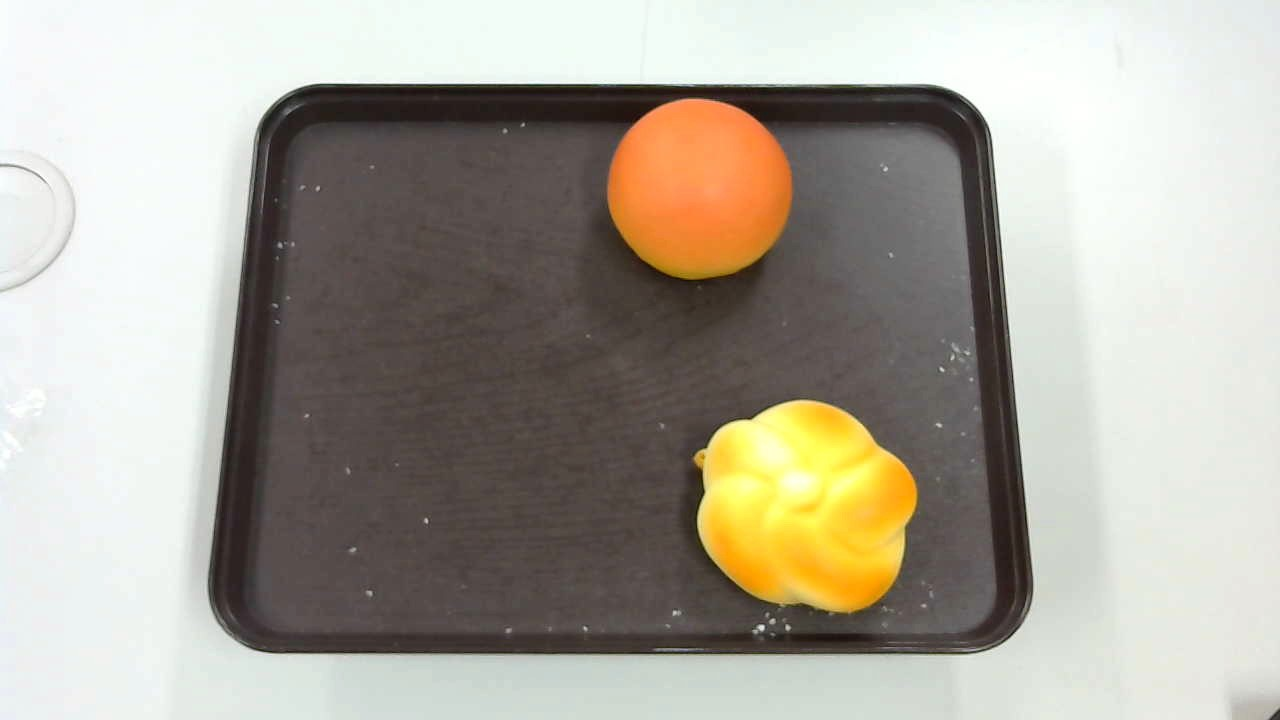bun: (606, 97, 792, 280)
twist bread: (693, 400, 918, 613)
